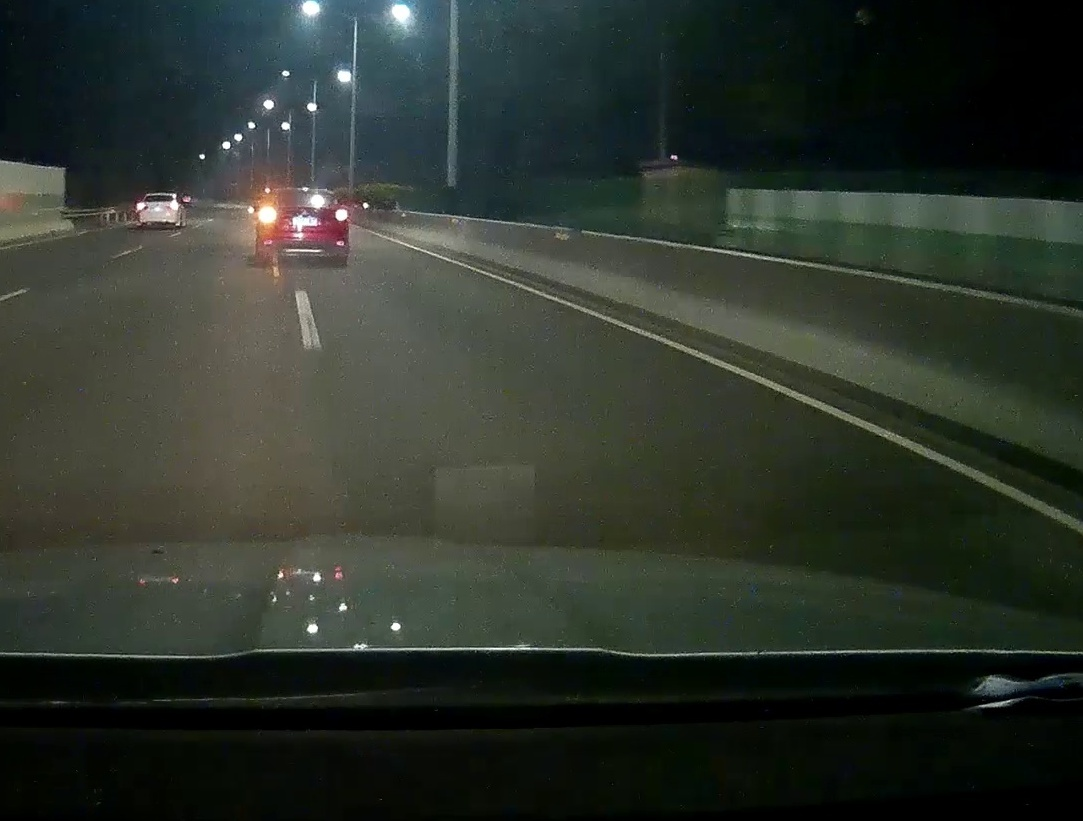L_light: (257, 206, 277, 224), (137, 202, 147, 211)
R_light: (335, 208, 348, 221), (170, 201, 178, 210)
T_light: (295, 192, 310, 194), (156, 195, 164, 196)
night-left: (255, 187, 350, 267)
night-no: (136, 193, 179, 229)
